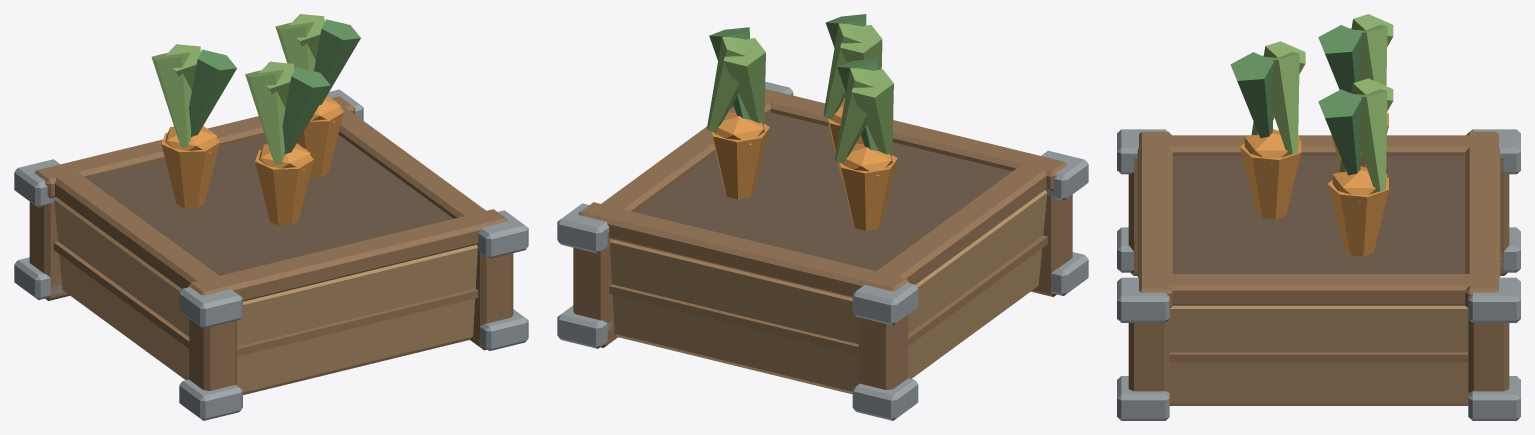
File: BUILD0037_PlanterBox_Carrot.fbx
The picture shows the model from 3 angles, left to right: view 1: azimuth 30°, elevation 25°; view 2: azimuth 150°, elevation 25°; view 3: azimuth 270°, elevation 25°; orthographic projection. The views are drawn at different scales.
Parts seen in each view (by area): view 1: BUILD0037_PlanterBox_Carrot, CropFoliageRoot.003, CropFruitRoot.003; view 2: BUILD0037_PlanterBox_Carrot, CropFoliageRoot.003, CropFruitRoot.003; view 3: BUILD0037_PlanterBox_Carrot, CropFoliageRoot.003, CropFruitRoot.003.
Boxes of the visible parts, box(x1,y1,x2,y2) form: BUILD0037_PlanterBox_Carrot: box(14, 89, 528, 420); CropFoliageRoot.003: box(151, 14, 360, 164); CropFruitRoot.003: box(161, 95, 343, 225); BUILD0037_PlanterBox_Carrot: box(557, 81, 1088, 420); CropFoliageRoot.003: box(707, 14, 893, 163); CropFruitRoot.003: box(711, 99, 897, 230); BUILD0037_PlanterBox_Carrot: box(1117, 129, 1520, 420); CropFoliageRoot.003: box(1230, 14, 1393, 191); CropFruitRoot.003: box(1240, 112, 1388, 256).
Size of the model in its own units: 1.38 by 1.07 by 1.38.
